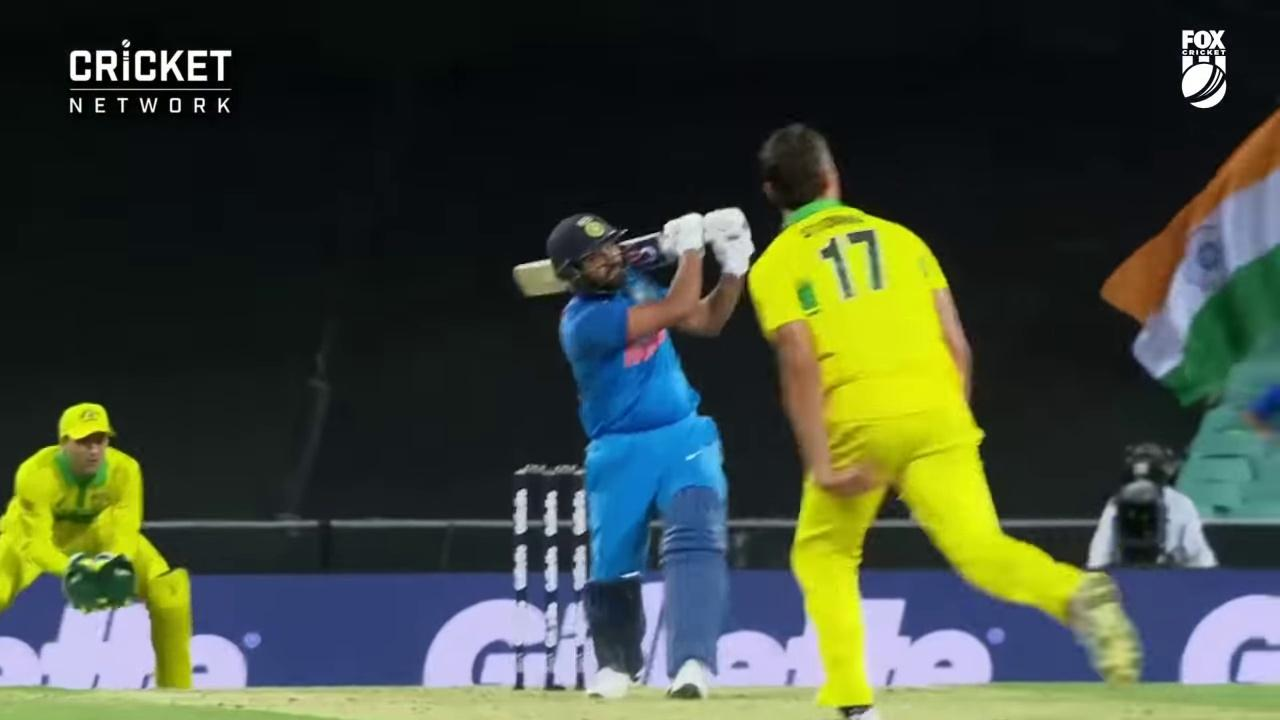batsman: (511, 210, 751, 703)
